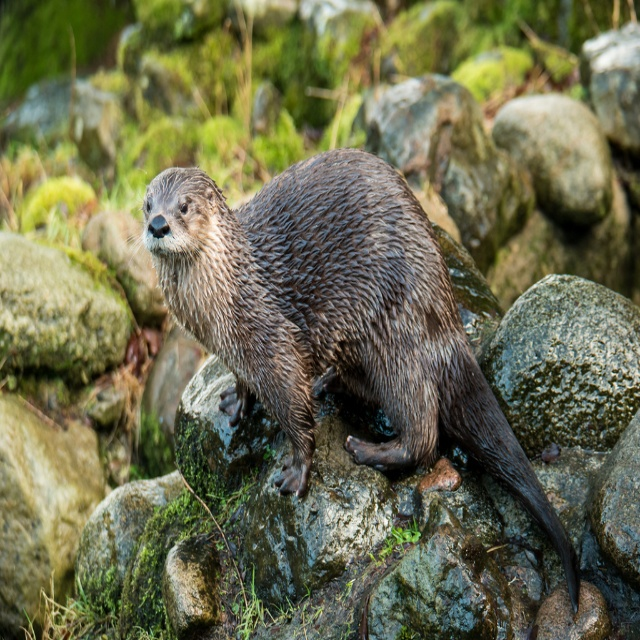Otter: (120, 145, 580, 614)
